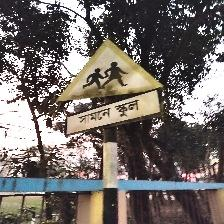School-in-front: (56, 38, 165, 136)
